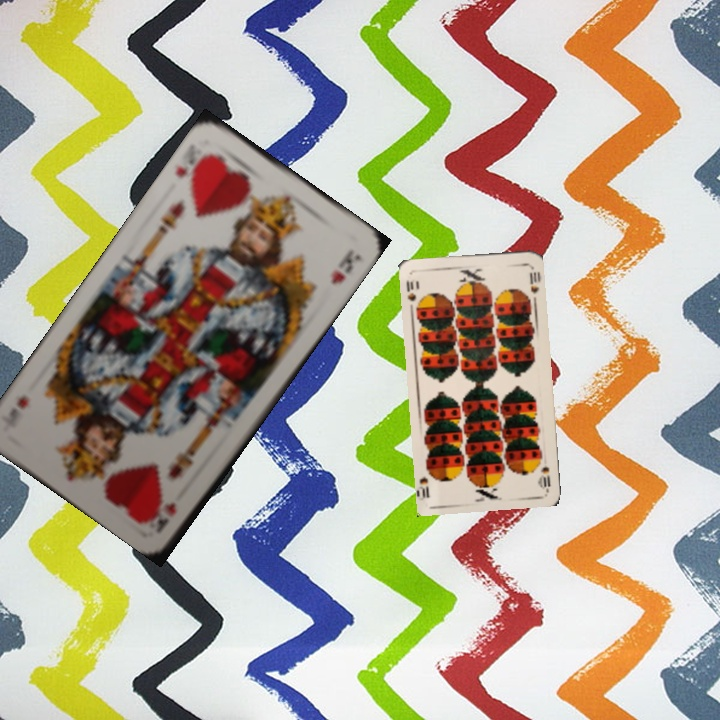HK: (170, 148, 214, 185), (152, 498, 179, 535)
S10: (402, 276, 423, 313), (537, 462, 553, 492)
